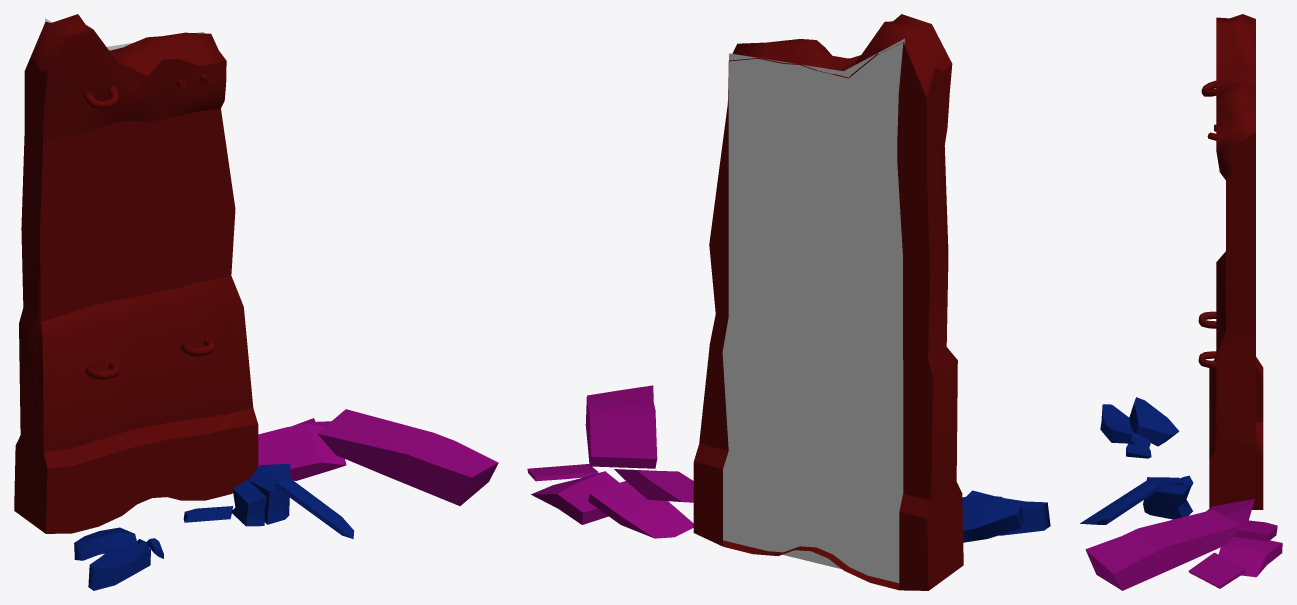
File: BrokenWall.FBX
The picture shows the model from 3 angles, left to right: view 1: azimuth 30°, elevation 25°; view 2: azimuth 150°, elevation 25°; view 3: azimuth 270°, elevation 25°; orthographic projection. The views are drawn at different scales.
Visible parts, largest first — view 1: Concrete Wall, Box005, Box004; view 2: Plane001, Concrete Wall, Box005, Box004; view 3: Concrete Wall, Box005, Box004.
Part boxes in pixels (left/top/right/bottom): Concrete Wall: left=14, top=14, right=258, bottom=533; Box005: left=258, top=409, right=498, bottom=505; Box004: left=74, top=463, right=354, bottom=590; Plane001: left=722, top=38, right=905, bottom=582; Concrete Wall: left=693, top=14, right=963, bottom=590; Box005: left=527, top=385, right=693, bottom=538; Box004: left=962, top=490, right=1050, bottom=542; Concrete Wall: left=1198, top=14, right=1263, bottom=509; Box005: left=1085, top=498, right=1282, bottom=590; Box004: left=1080, top=397, right=1193, bottom=524.
Size of the model in its own units: 261 by 304 by 131.
